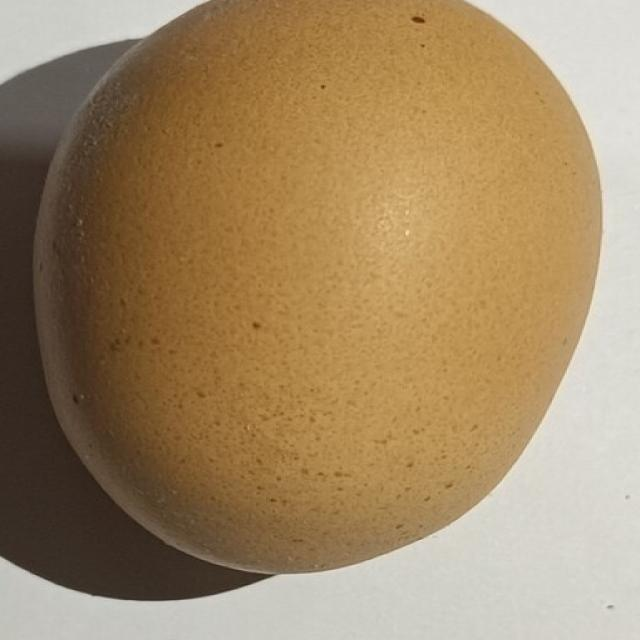unfresh: (28, 0, 607, 574)
